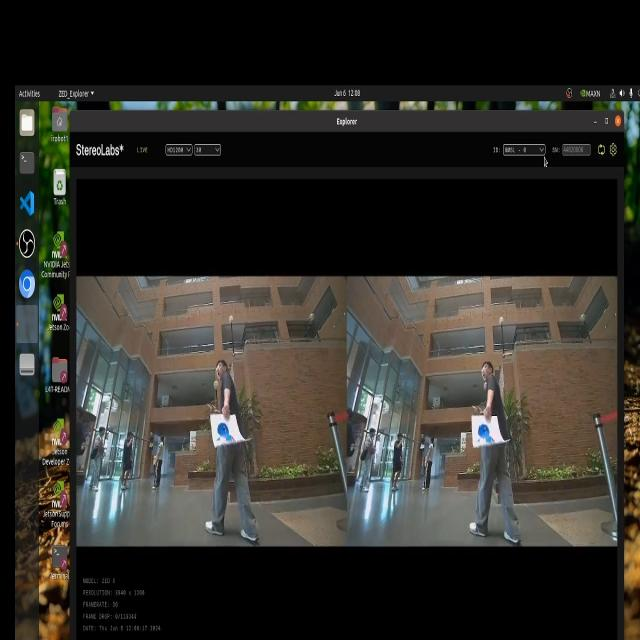blue: (477, 414, 497, 453), (209, 419, 232, 447)
